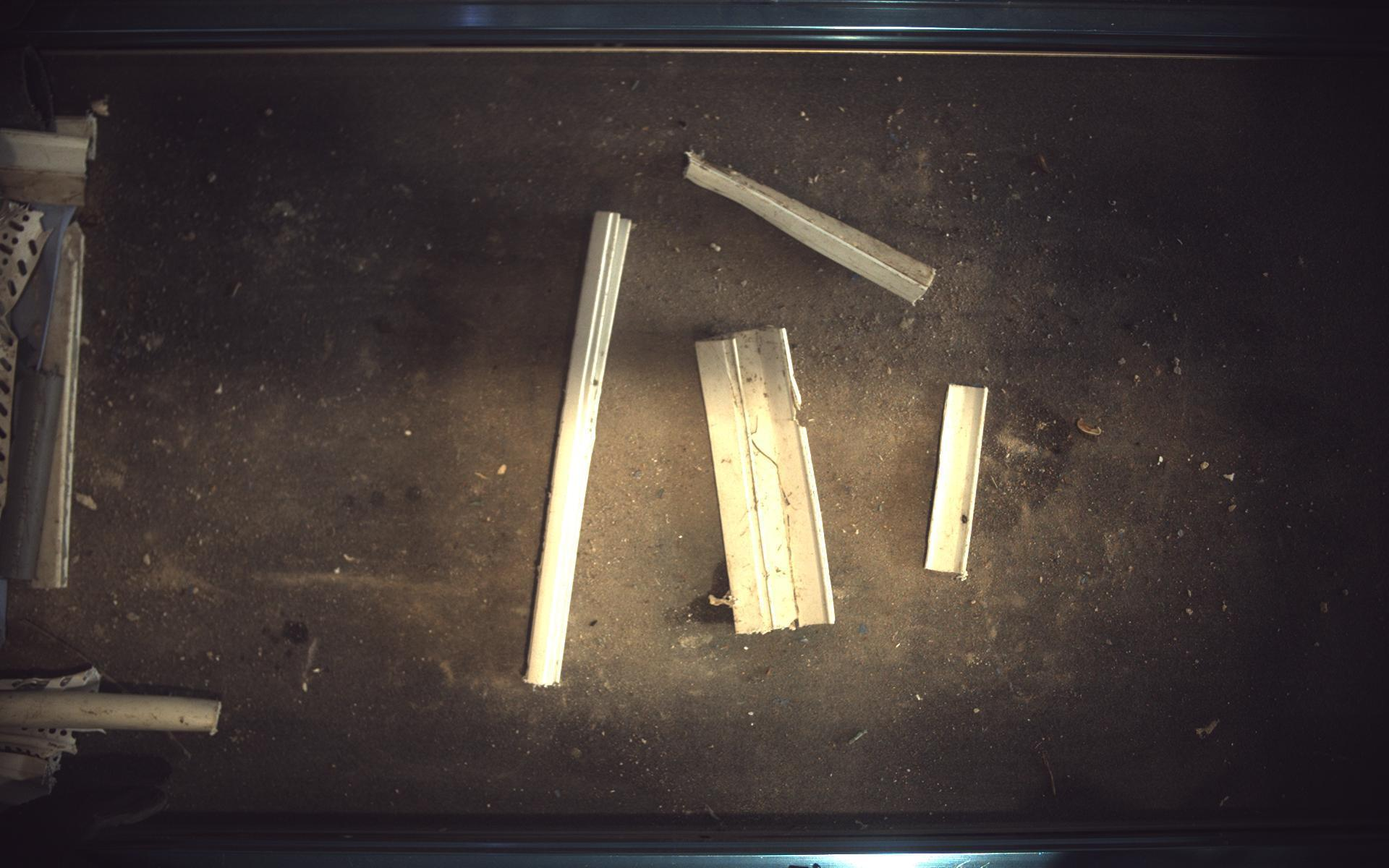plastic: (525, 211, 632, 687), (697, 328, 836, 635), (927, 384, 990, 581)
